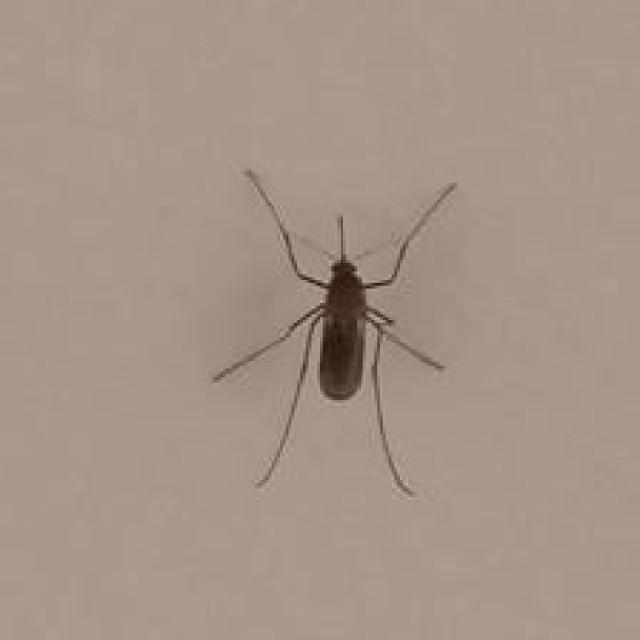Culex: (210, 166, 459, 497)
